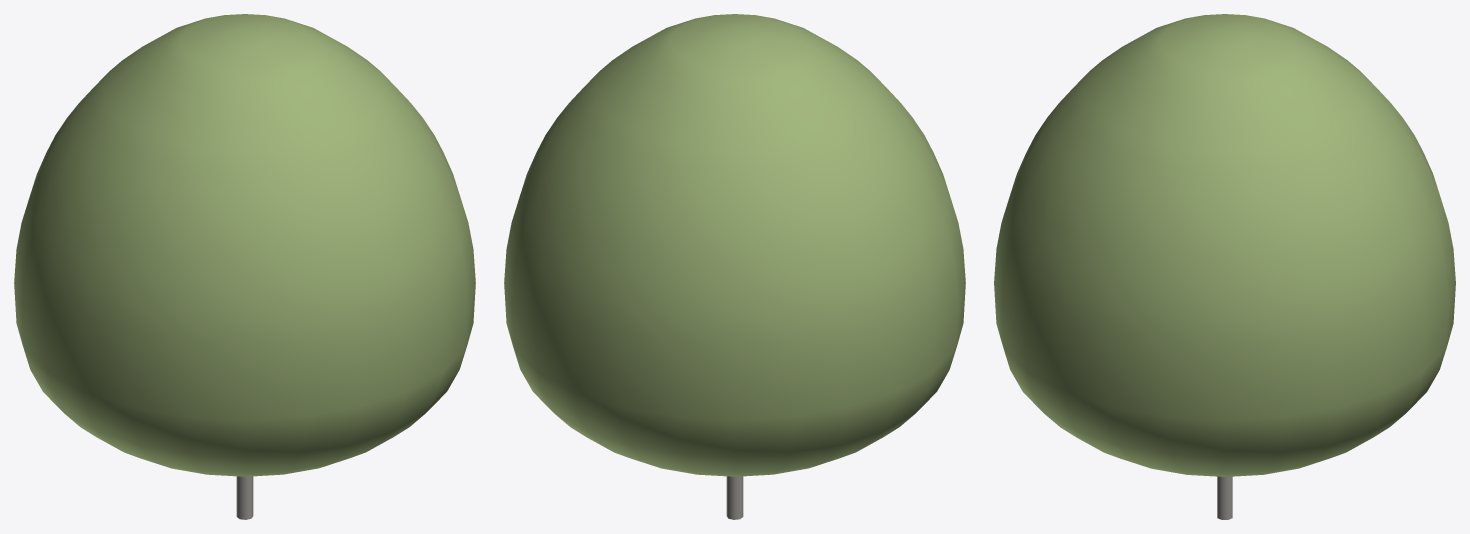
Rendered from QuercusRubra.glb.
3 renders of one model, left to right at view 1: azimuth 30°, elevation 25°; view 2: azimuth 150°, elevation 25°; view 3: azimuth 270°, elevation 25°, orthographic.
Visible parts, largest first — view 1: Northern_Red_Oak__Schematic_LOD3; view 2: Northern_Red_Oak__Schematic_LOD3; view 3: Northern_Red_Oak__Schematic_LOD3.
Part boxes in pixels (<box>): Northern_Red_Oak__Schematic_LOD3: <box>14,14,475,519</box>; Northern_Red_Oak__Schematic_LOD3: <box>504,14,965,519</box>; Northern_Red_Oak__Schematic_LOD3: <box>994,14,1455,519</box>.
Size of the model in its own units: 17.6 by 20.39 by 17.6.
